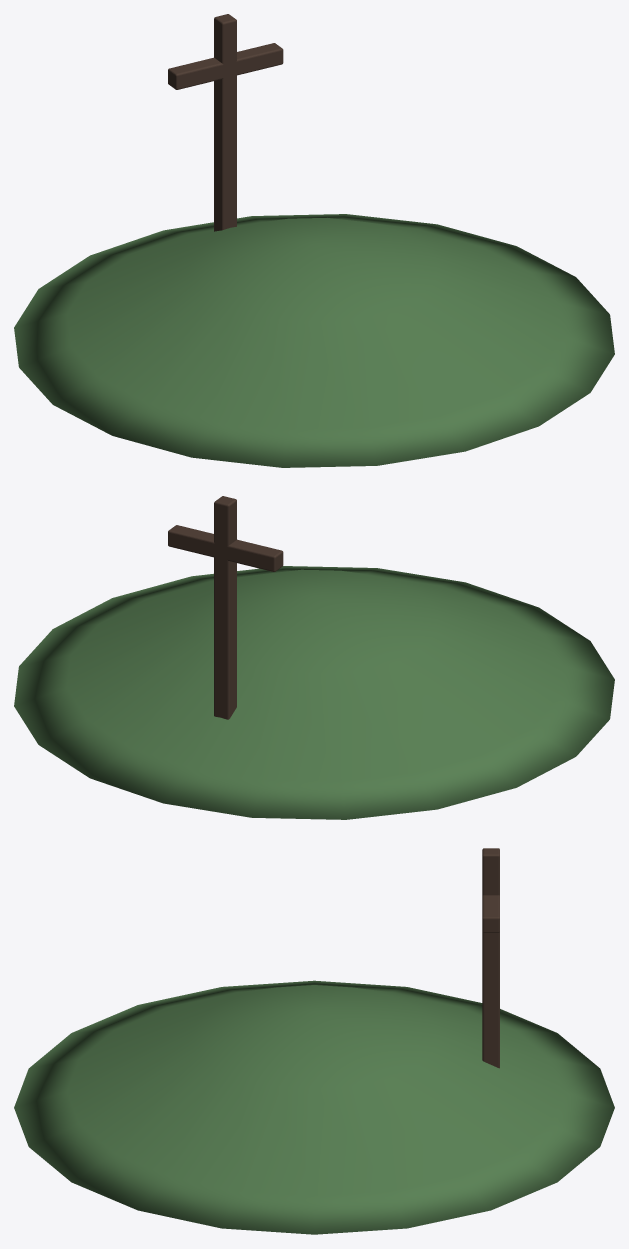
File: grave_mound_mossy_grave.glb
The picture shows the model from 3 angles, top to bottom: view 1: azimuth 30°, elevation 25°; view 2: azimuth 150°, elevation 25°; view 3: azimuth 270°, elevation 25°; orthographic projection.
Parts seen in each view (by area): view 1: GD_grave_mound_mossy_grave__m0, GD_grave_mound_mossy_grave__m1; view 2: GD_grave_mound_mossy_grave__m0, GD_grave_mound_mossy_grave__m1; view 3: GD_grave_mound_mossy_grave__m0, GD_grave_mound_mossy_grave__m1.
Boxes of the visible parts, bbox=[...] form: GD_grave_mound_mossy_grave__m0: bbox=[14, 214, 614, 467]; GD_grave_mound_mossy_grave__m1: bbox=[168, 14, 283, 231]; GD_grave_mound_mossy_grave__m0: bbox=[14, 566, 614, 819]; GD_grave_mound_mossy_grave__m1: bbox=[168, 496, 283, 719]; GD_grave_mound_mossy_grave__m0: bbox=[14, 980, 614, 1234]; GD_grave_mound_mossy_grave__m1: bbox=[482, 848, 499, 1068].
Bounding box in the file's own units: 1.7 × 0.8 × 1.7.
